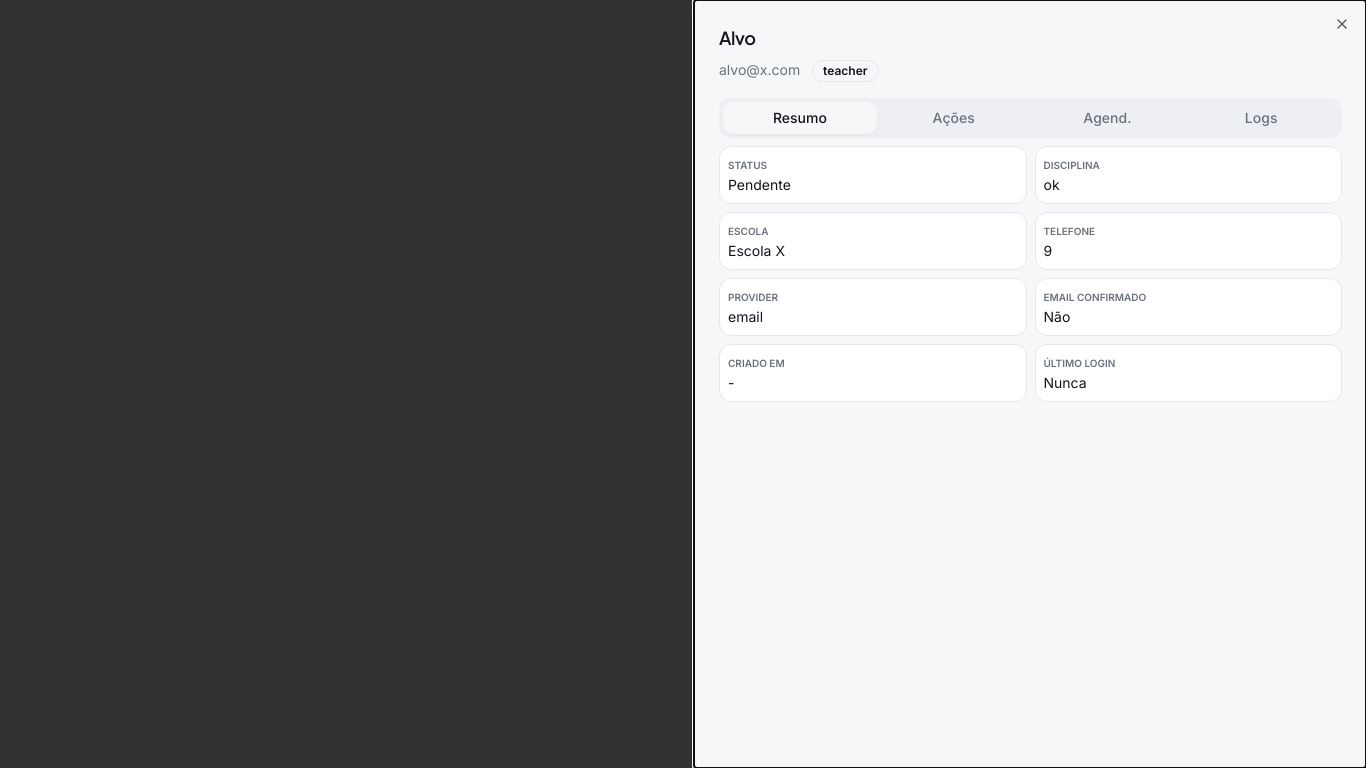
Test: ReasonConfirmDialog — validação de motivo (0 / 2 / 3+ chars) › 2 caracteres: ainda inválido — Confirmar desabilitado e nenhuma RPC sensível disparada
Later steps or results of the test are not shown.
Expected: the text "alvo@x.com teacher" is shown, 719,60 -> 878,82
Click the tab "Ações" at (954, 118), box 877,102 -> 1031,134
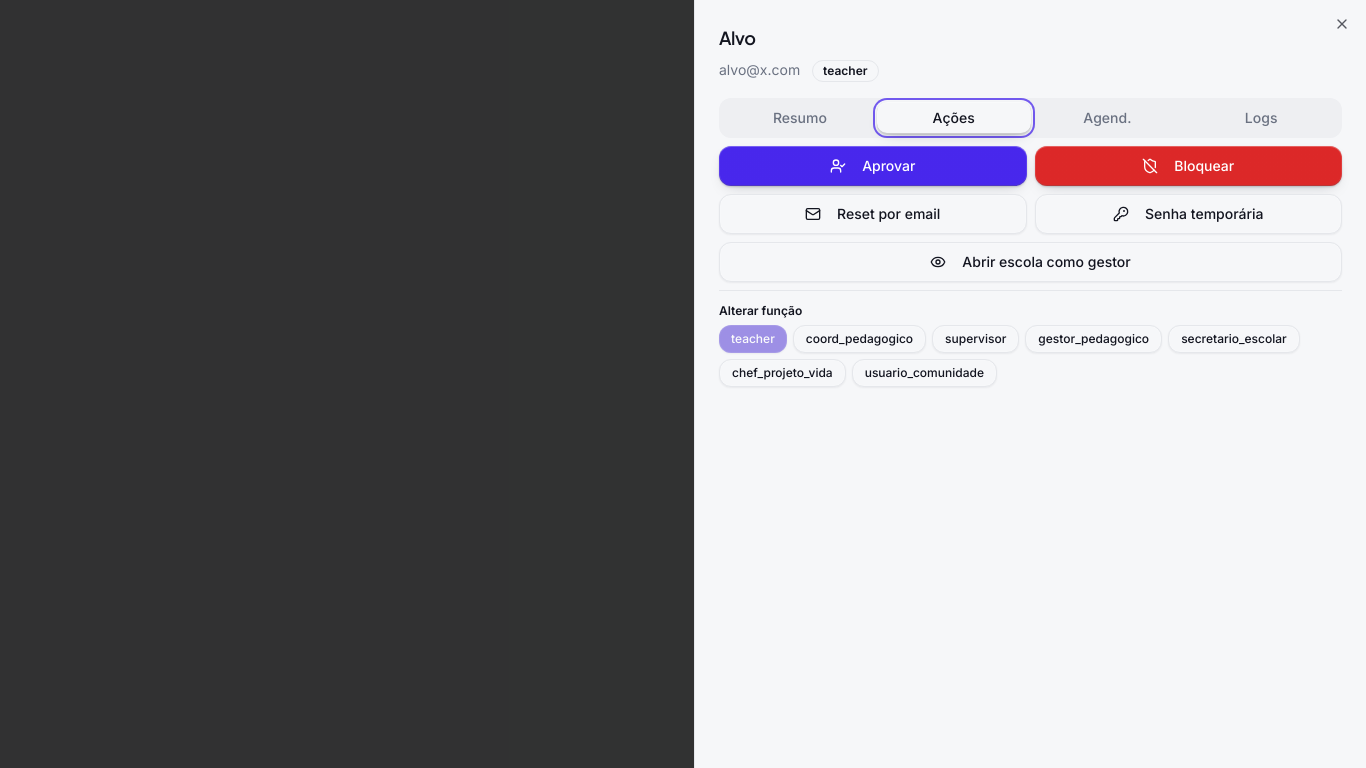
Now the panel named "Ações" is shown, box 719,146 -> 1342,387
Click the button "Aprovar" at (873, 166), box 719,146 -> 1026,186
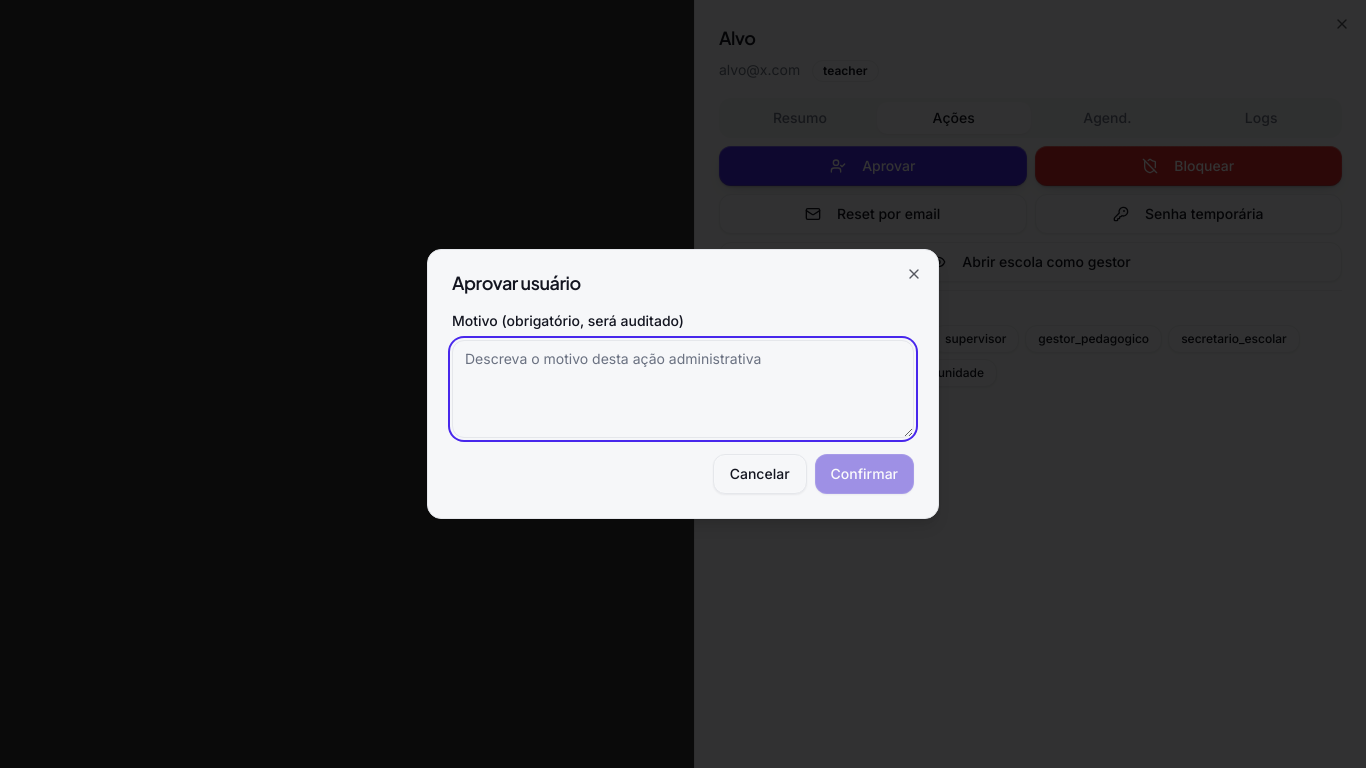
Type "ok" into the text box with placeholder "Descreva o motivo desta ação administrativa" at (683, 389), box 452,340 -> 914,438
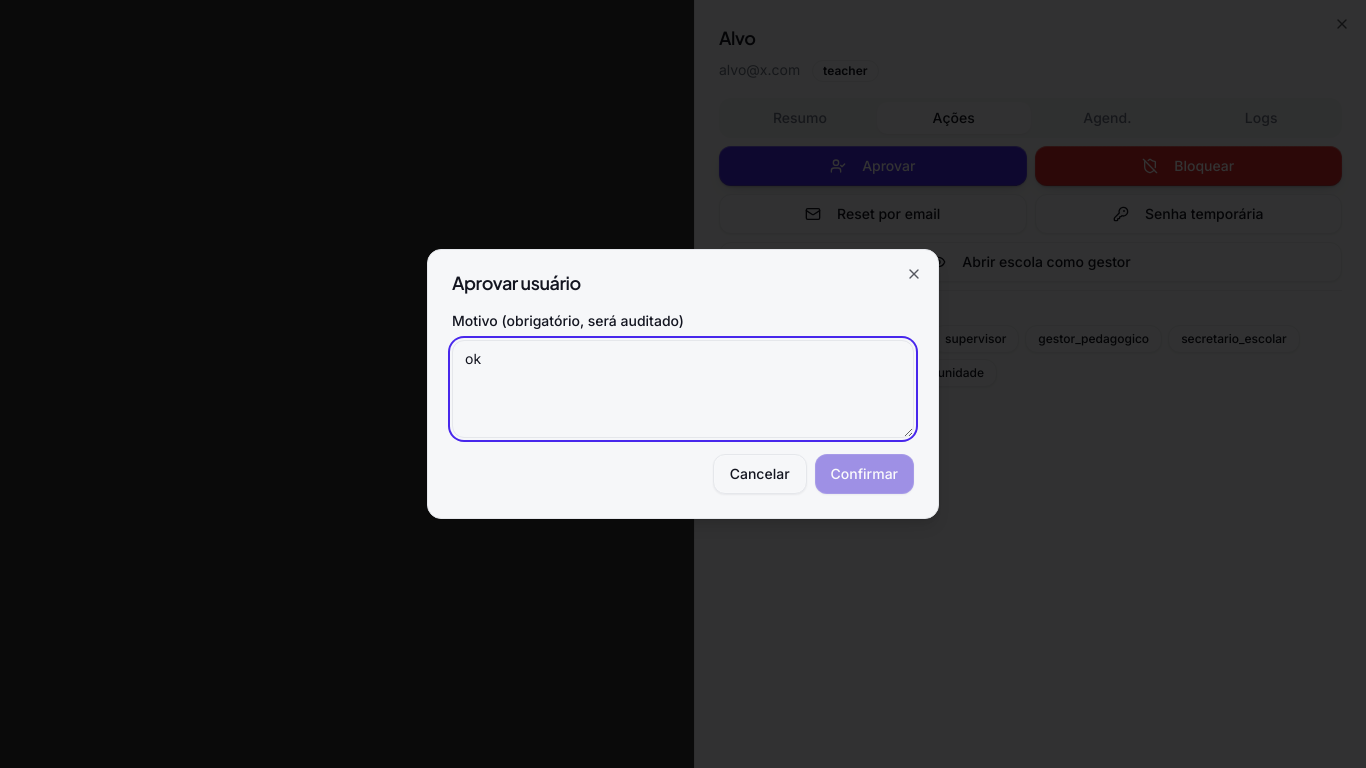
Now the button "Confirmar" is disabled, box 815,454 -> 914,494
